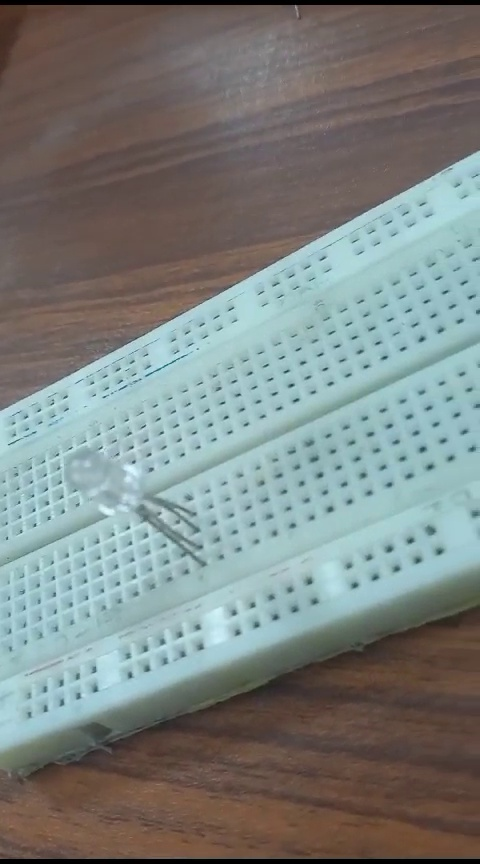LED: (39, 448, 216, 561)
